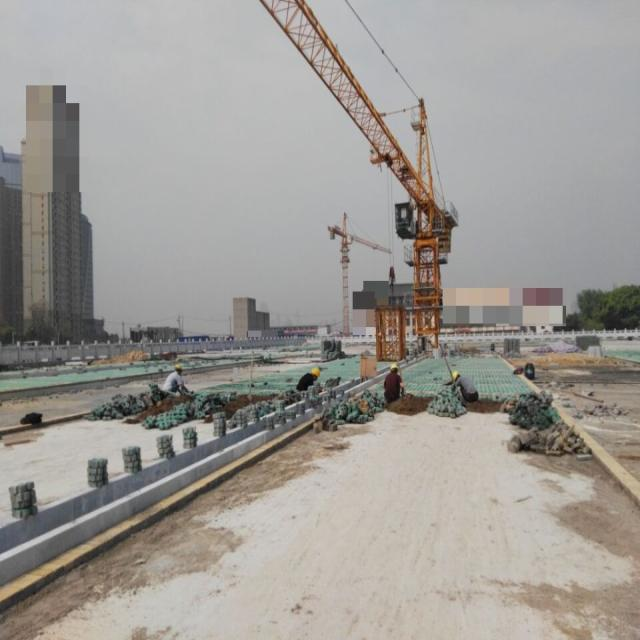crane: (258, 0, 458, 348), (328, 211, 392, 337)
